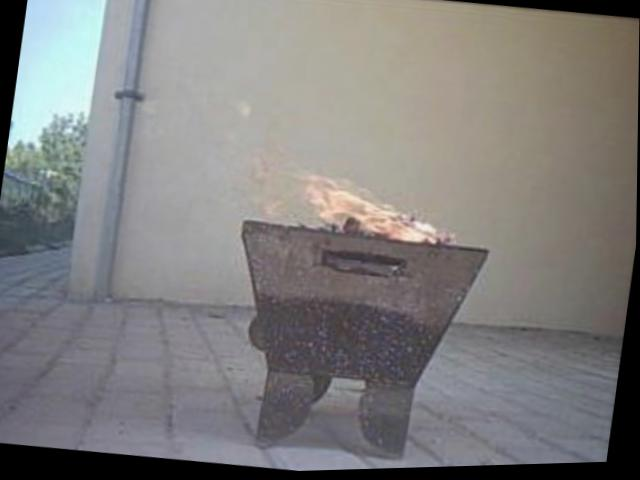fire: (199, 105, 485, 288)
